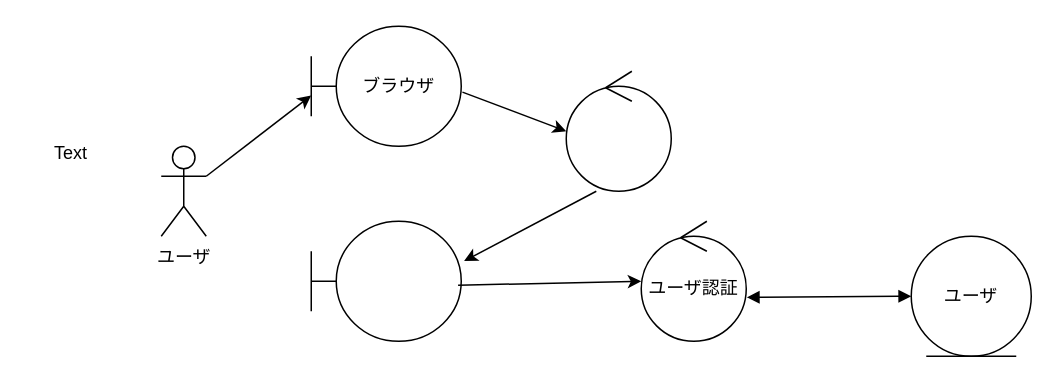
This 1058x383 diagram has some shape labels left out. Here are the shapes that lost their labels. From the top down, the centre of each, then its label:
the point at 618,130: 表示
the point at 385,280: ログイン画面
